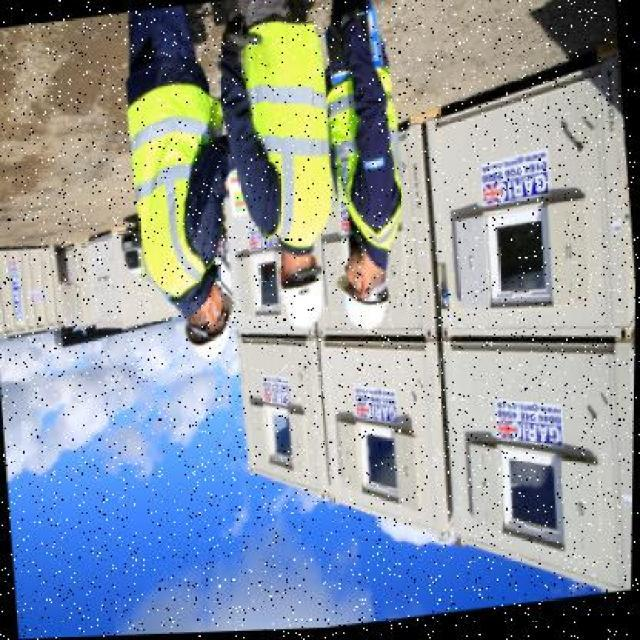helmet: (329, 271, 397, 339), (180, 288, 240, 365), (273, 266, 332, 336)
vest: (232, 18, 341, 250), (322, 72, 408, 252), (125, 92, 205, 284)
